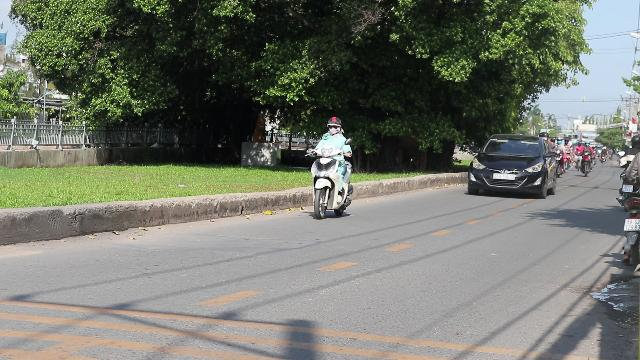helmet: (326, 116, 342, 134)
licenseplate: (624, 218, 640, 230)
motorcyclist: (306, 117, 356, 219)
